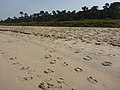human_foot_print: (87, 76, 96, 83), (101, 61, 111, 65), (83, 55, 91, 60), (74, 67, 82, 72), (44, 69, 53, 73), (61, 62, 67, 66)
